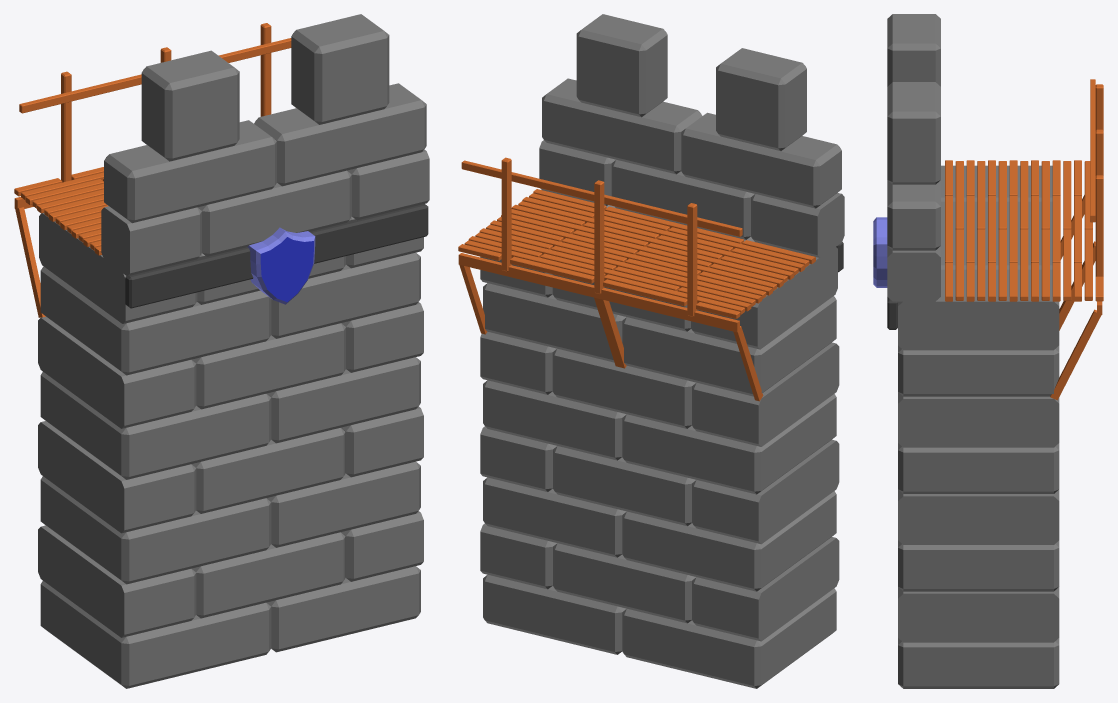
File: Build_Castle_Wall_V1.fbx
3 views of the same model, side by side, from view 1: azimuth 30°, elevation 25°; view 2: azimuth 150°, elevation 25°; view 3: azimuth 270°, elevation 25° (orthographic). The views are drawn at different scales.
Parts seen in each view (by area): view 1: Block_Full_wall229; view 2: Block_Full_wall229; view 3: Block_Full_wall229.
Part boxes in pixels (x1,y1,x2,y2): Block_Full_wall229: [14, 14, 429, 688]; Block_Full_wall229: [458, 14, 844, 688]; Block_Full_wall229: [873, 14, 1103, 688].
Size of the model in its own units: 118 by 226 by 84.33.
